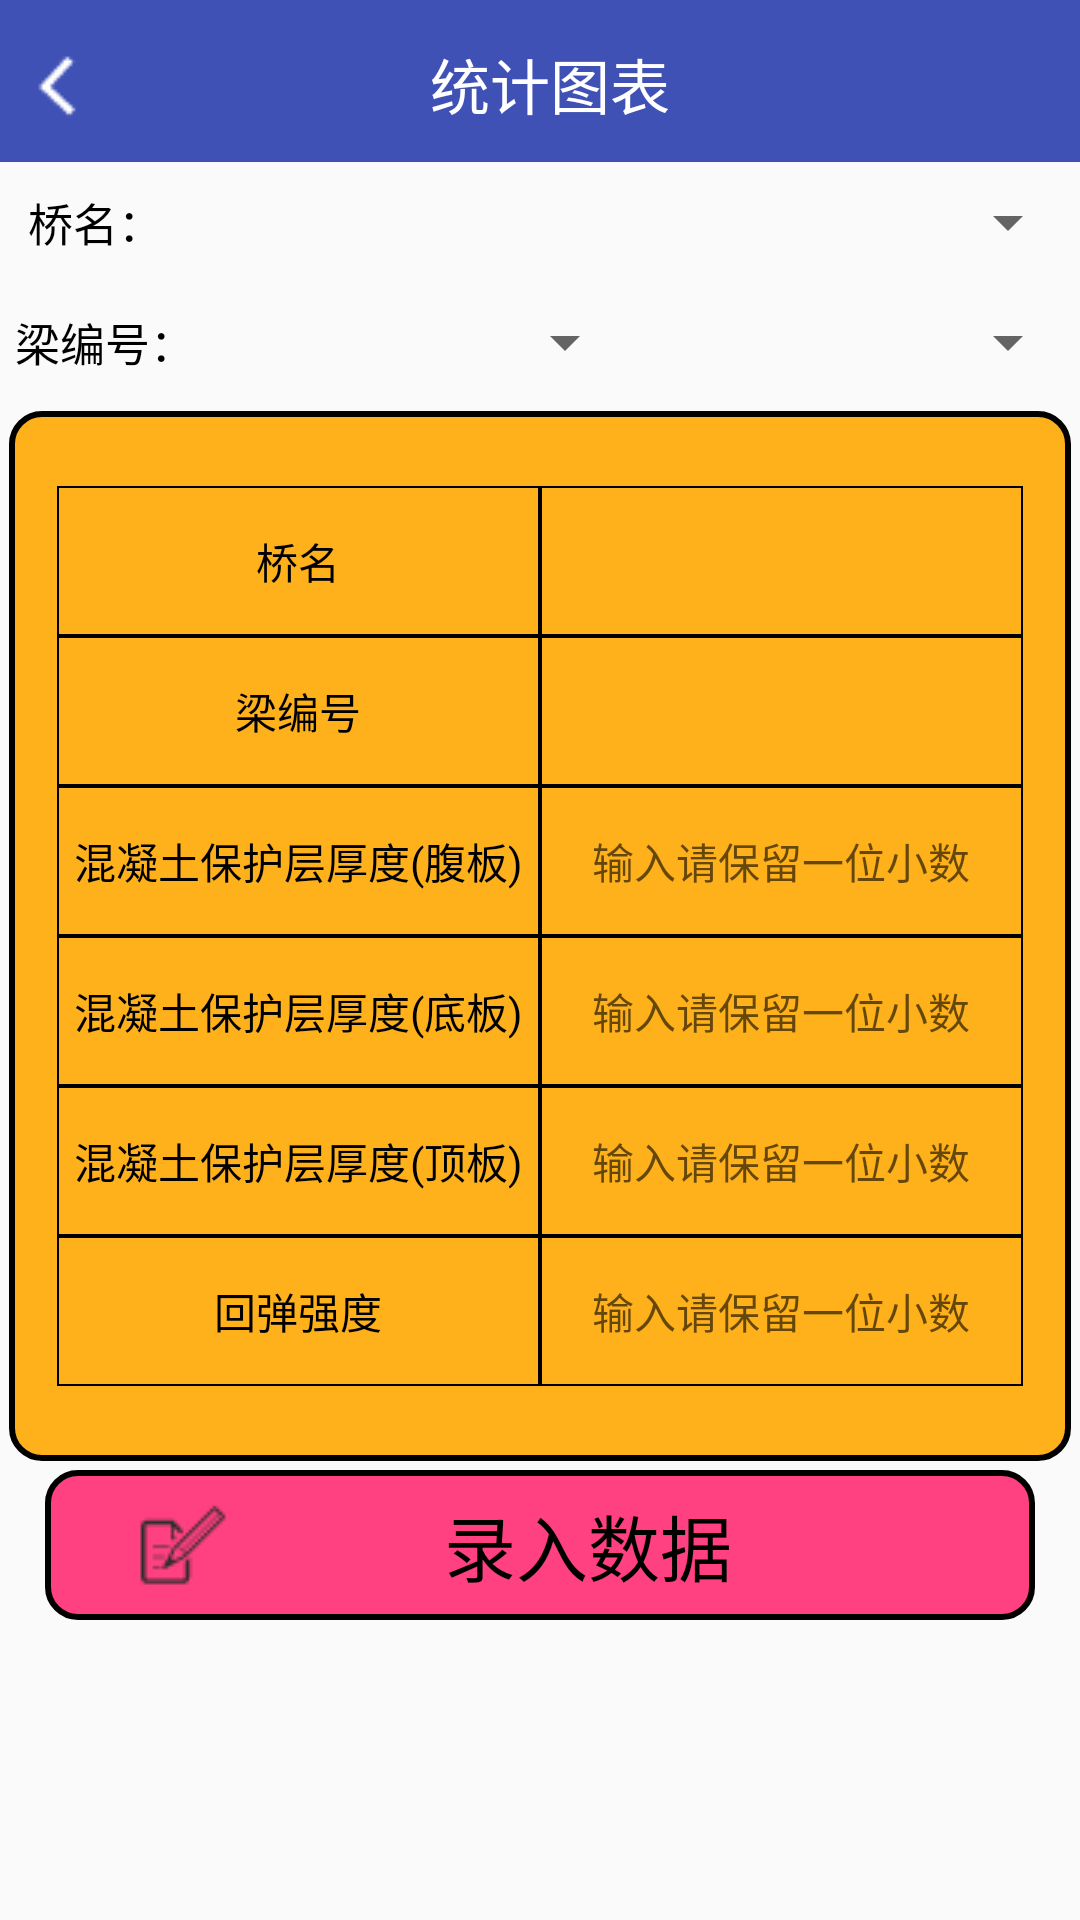

Icons on this 1080x1920 Android screen, each with its box as (x1, y1, x2, y2):
back: (39, 56, 76, 115)
